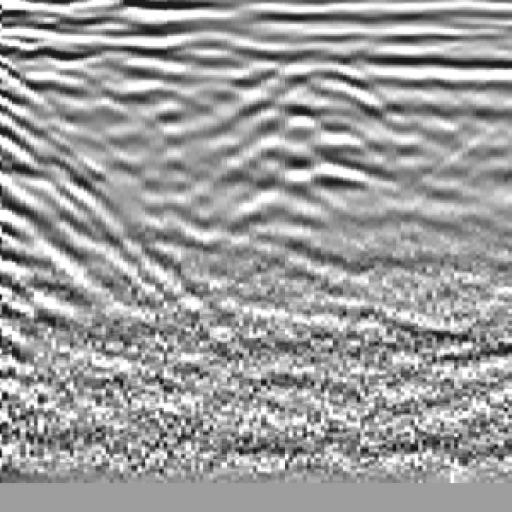metalic: (230, 49, 404, 263)
nonmetalic: (1, 41, 160, 280)
